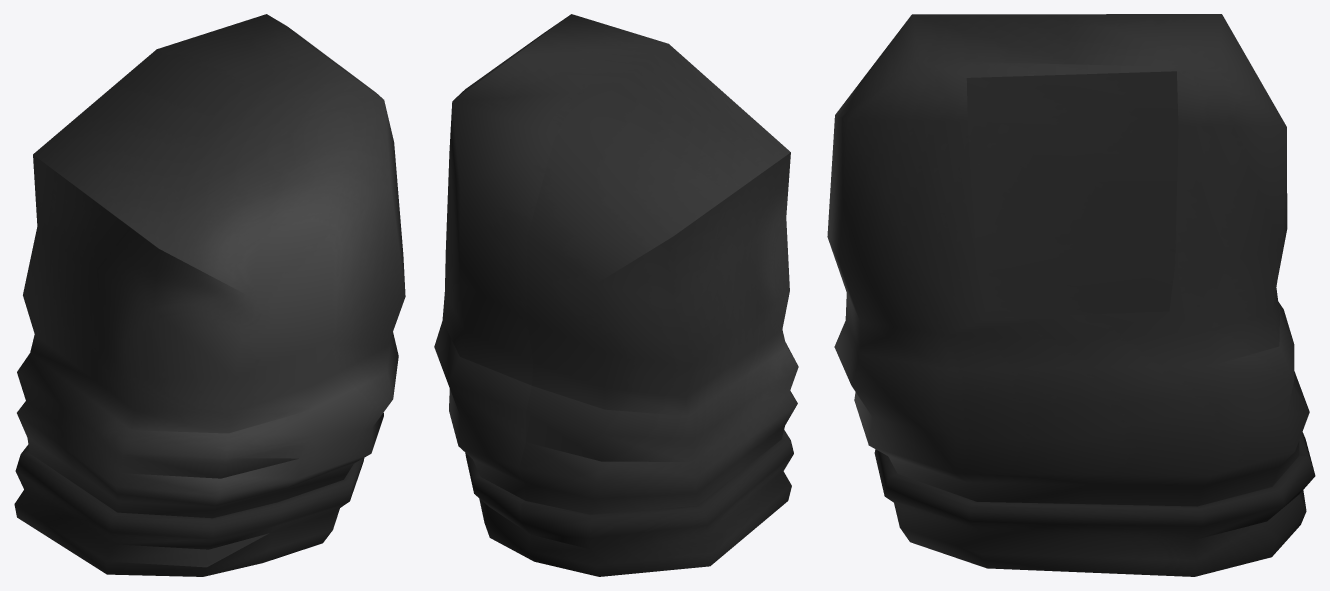
File: sleeve R.obj
The picture shows the model from 3 angles, left to right: view 1: azimuth 30°, elevation 25°; view 2: azimuth 150°, elevation 25°; view 3: azimuth 270°, elevation 25°; orthographic projection. The views are drawn at different scales.
Parts seen in each view (by area): view 1: sleeve_R; view 2: sleeve_R; view 3: sleeve_R.
Boxes of the visible parts, bbox=[...] form: sleeve_R: bbox=[14, 14, 405, 576]; sleeve_R: bbox=[434, 14, 798, 576]; sleeve_R: bbox=[827, 14, 1315, 576].
Bounding box in the file's own units: 0.7444 × 1.1 × 0.9081.
